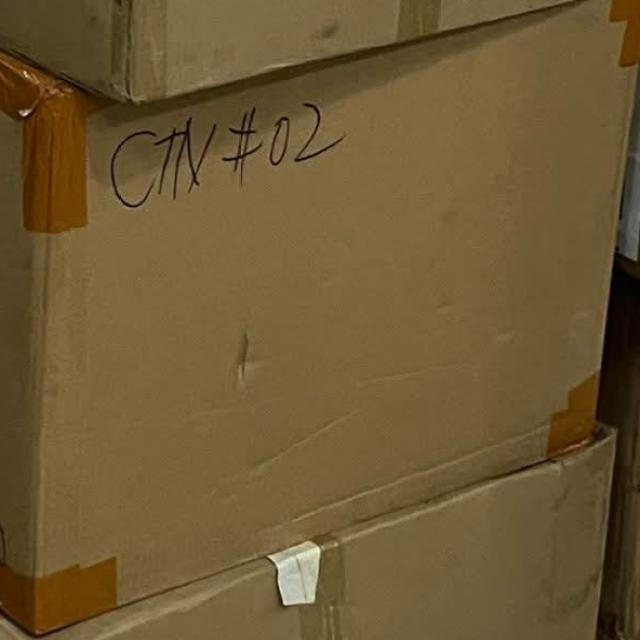carton_box: (0, 4, 637, 617)
package_damage: (208, 302, 286, 406)
